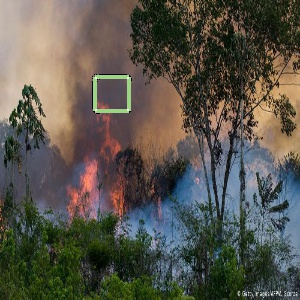square: (89, 72, 133, 115)
